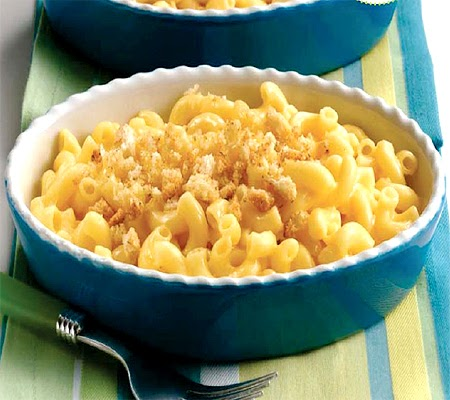macncheese: (24, 79, 424, 276)
